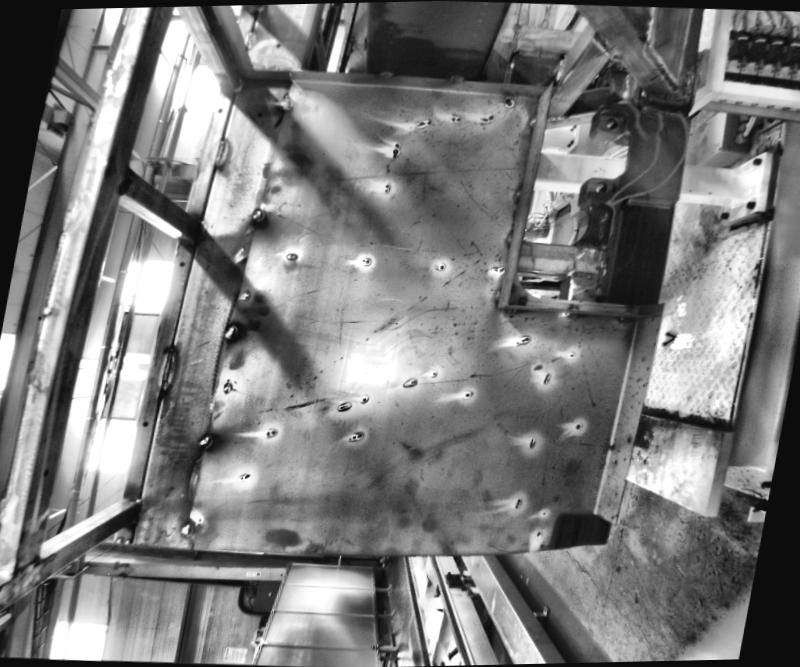hole: (592, 179, 608, 194), (602, 117, 618, 130), (176, 260, 184, 266), (274, 42, 280, 48), (256, 111, 262, 116), (142, 420, 148, 425), (217, 108, 222, 111)
welding: (637, 45, 681, 86), (589, 27, 616, 54), (160, 347, 174, 395), (196, 428, 215, 451), (247, 205, 265, 226), (211, 136, 224, 164), (243, 26, 256, 52), (280, 94, 294, 112), (222, 324, 236, 340), (444, 71, 464, 82), (192, 221, 202, 242), (526, 112, 540, 126), (179, 520, 193, 534), (560, 310, 581, 316), (377, 69, 390, 77), (493, 288, 501, 300), (514, 186, 523, 196), (618, 316, 630, 321), (506, 307, 516, 312), (507, 233, 511, 241)
